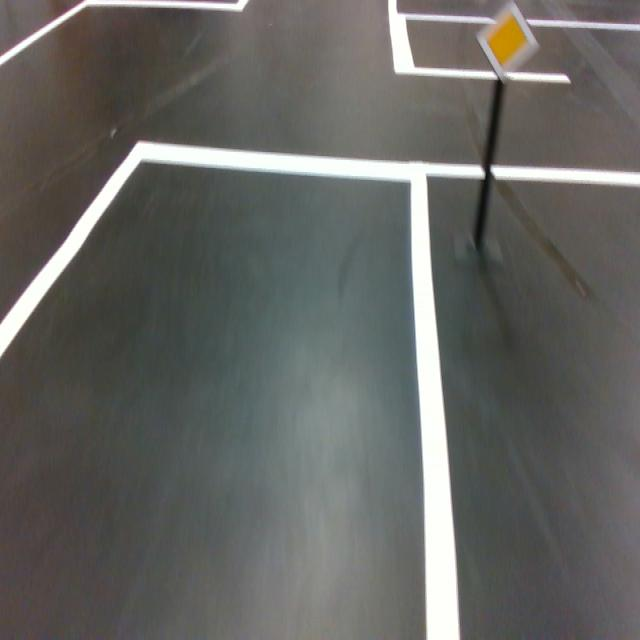priority-sign: (474, 0, 540, 87)
